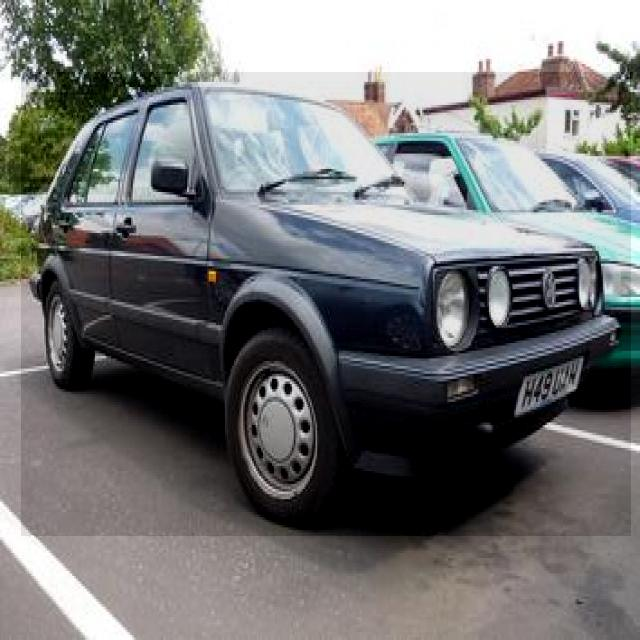Car: (21, 72, 632, 536)
